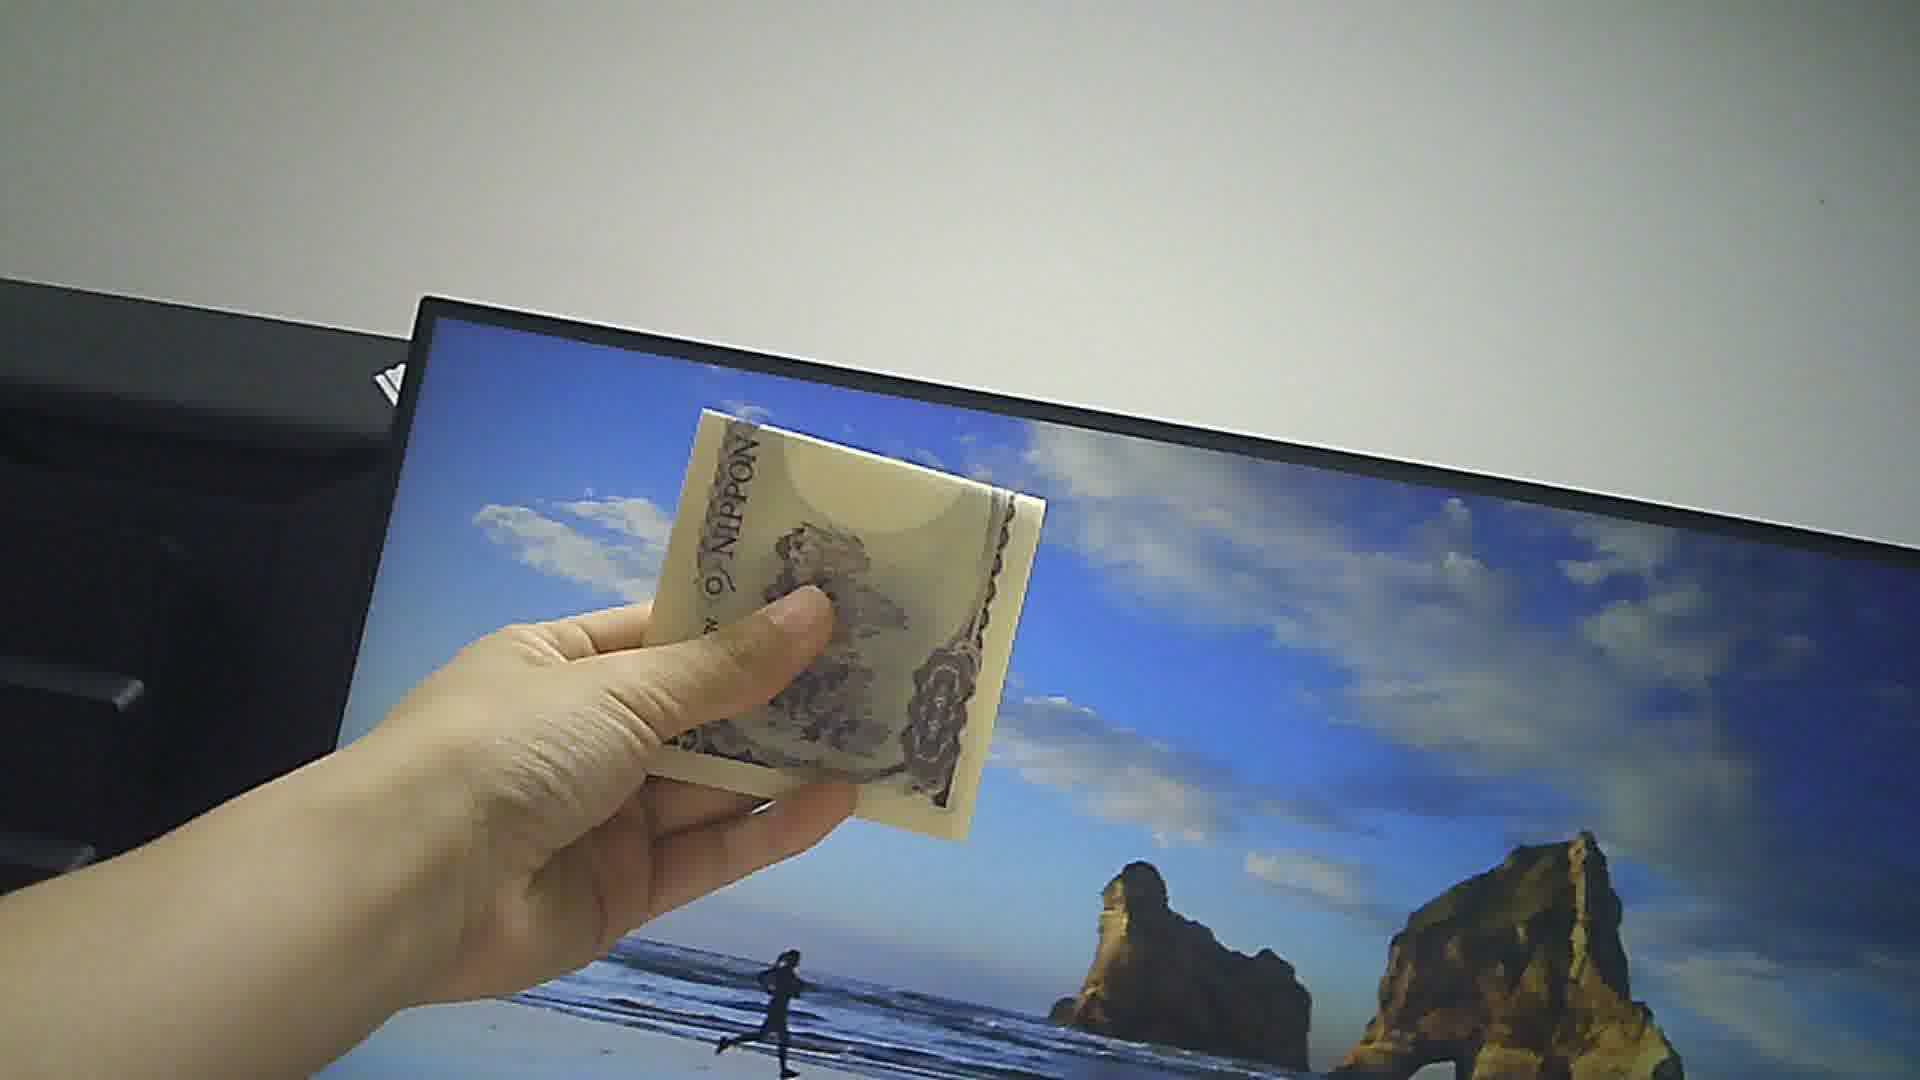5,000 Yen: (615, 400, 1042, 829)
